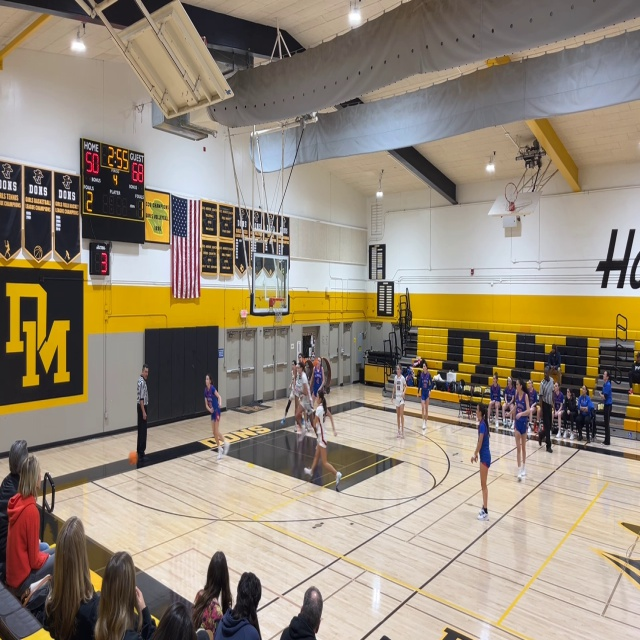Basketball: (128, 451, 138, 463)
